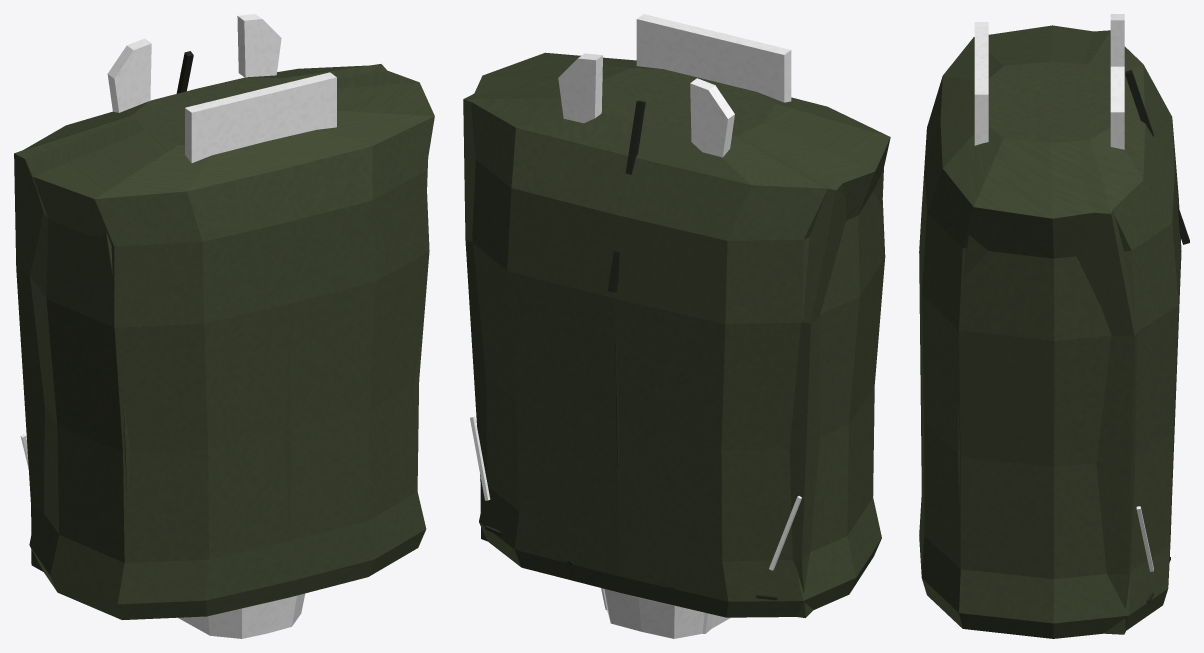
File: jacket_kombat.glb
3 renders of one model, left to right at view 1: azimuth 30°, elevation 25°; view 2: azimuth 150°, elevation 25°; view 3: azimuth 270°, elevation 25°, orthographic. The views are drawn at different scales.
Parts seen in each view (by area): view 1: jacket_kombat_torso_LOD0_RAID_jersey.001, jacket_kombat_torso_LOD1_RAID_jersey.001, jacket_kombat_torso_LOD0_RAID_cloth.001, jacket_kombat_torso_LOD1_RAID_cloth.001, jacket_kombat_upperL_LOD0_RAID_cloth.001; view 2: jacket_kombat_torso_LOD0_RAID_jersey.001, jacket_kombat_torso_LOD1_RAID_jersey.001, jacket_kombat_torso_LOD0_RAID_cloth.001, jacket_kombat_torso_LOD1_RAID_cloth.001, jacket_kombat_upperL_LOD0_RAID_cloth.001, jacket_kombat_torso_LOD0_RAID_zip.001; view 3: jacket_kombat_torso_LOD0_RAID_jersey.001, jacket_kombat_torso_LOD1_RAID_jersey.001, jacket_kombat_torso_LOD0_RAID_cloth.001, jacket_kombat_torso_LOD1_RAID_cloth.001, jacket_kombat_torso_LOD0_RAID_zip.001.
Boxes of the visible parts, left/top/right/bottom form: jacket_kombat_torso_LOD0_RAID_jersey.001: left=24, top=65, right=434, bottom=619; jacket_kombat_torso_LOD1_RAID_jersey.001: left=14, top=64, right=428, bottom=571; jacket_kombat_torso_LOD0_RAID_cloth.001: left=20, top=14, right=336, bottom=468; jacket_kombat_torso_LOD1_RAID_cloth.001: left=185, top=72, right=336, bottom=162; jacket_kombat_upperL_LOD0_RAID_cloth.001: left=178, top=593, right=305, bottom=638; jacket_kombat_torso_LOD0_RAID_jersey.001: left=471, top=52, right=890, bottom=617; jacket_kombat_torso_LOD1_RAID_jersey.001: left=463, top=68, right=883, bottom=617; jacket_kombat_torso_LOD0_RAID_cloth.001: left=470, top=17, right=801, bottom=570; jacket_kombat_torso_LOD1_RAID_cloth.001: left=636, top=14, right=791, bottom=102; jacket_kombat_upperL_LOD0_RAID_cloth.001: left=603, top=588, right=730, bottom=638; jacket_kombat_torso_LOD0_RAID_zip.001: left=608, top=100, right=645, bottom=292; jacket_kombat_torso_LOD0_RAID_jersey.001: left=919, top=25, right=1181, bottom=638; jacket_kombat_torso_LOD1_RAID_jersey.001: left=919, top=30, right=1181, bottom=634; jacket_kombat_torso_LOD0_RAID_cloth.001: left=974, top=14, right=1153, bottom=571; jacket_kombat_torso_LOD1_RAID_cloth.001: left=974, top=22, right=988, bottom=144; jacket_kombat_torso_LOD0_RAID_zip.001: left=1125, top=70, right=1189, bottom=244.
Size of the model in its own units: 0.4579 by 0.6227 by 0.271.
5 materials, 5 textured.
